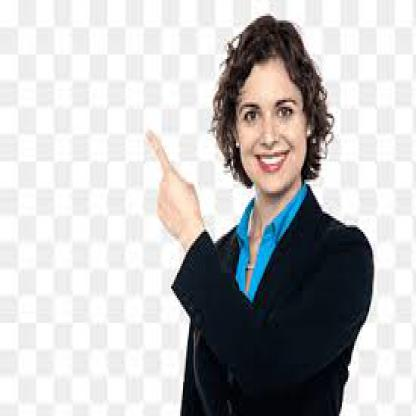Up: (139, 108, 199, 247)
